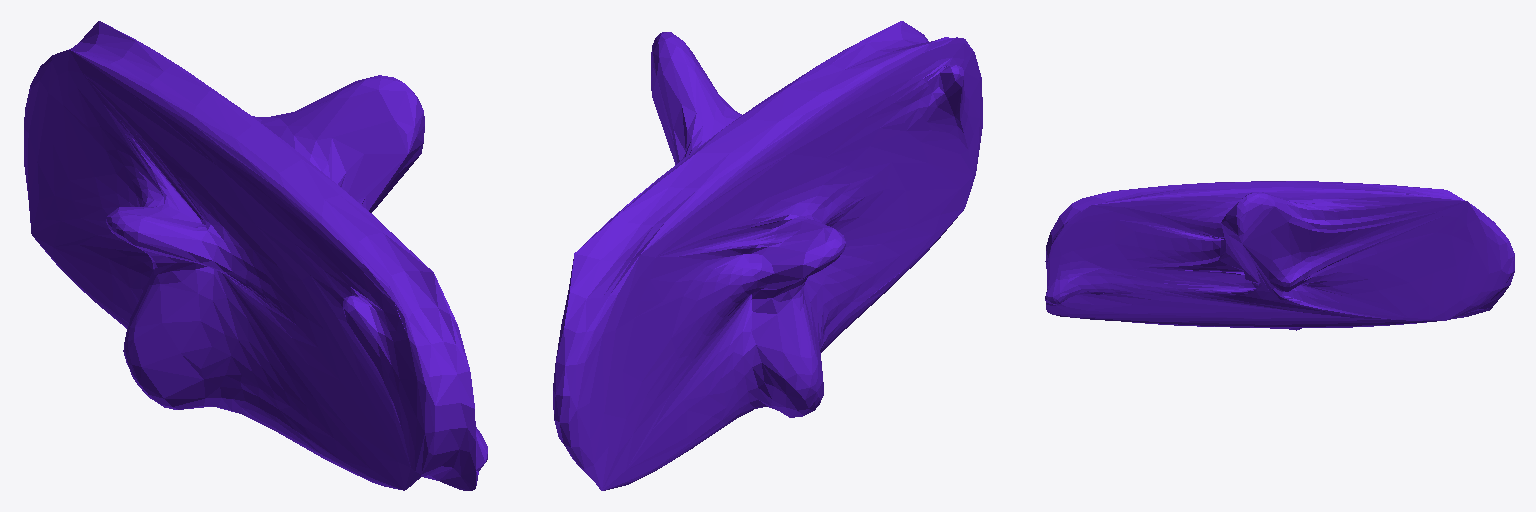
URDF robot description (blob069):

<robot name="blob069">
  <link name="random_obj_069">
    <contact>
      <lateral_friction value="1.0"/>
      <rolling_friction value="0.0"/>
      <inertia_scaling value="3.0"/>
      <contact_cfm value="0.0"/>
      <contact_erp value="1.0"/>
    </contact>
    <inertial>
      <origin rpy="0 0 0" xyz="0 0 0"/>
      <mass value="0.1778"/>
      <inertia ixx="1" ixy="0" ixz="0" iyy="1" iyz="0" izz="0"/>
    </inertial>
    <visual>
      <origin rpy="0 0 0" xyz="0 0 0"/>
      <geometry>
        <mesh filename="069.obj" scale="0.0066 0.0066 0.0066"/>
      </geometry>
      <material name="blockmat">
        <color rgba="0.42 0.18 0.83 1"/>
      </material>
    </visual>
    <collision>
      <origin rpy="0 0 0" xyz="0 0 0"/>
      <geometry>
        <mesh filename="069_coll.obj" scale="0.0066 0.0066 0.0066"/>
      </geometry>
    </collision>
  </link>
</robot>

--- Facts derived from the render (not from the file) ---
The picture shows the robot from 3 angles, left to right: view 1: azimuth 30°, elevation 25°; view 2: azimuth 150°, elevation 25°; view 3: azimuth 270°, elevation 25°; orthographic projection.
Robot: blob069 — 1 links, 0 joints (none); root link random_obj_069; default pose: every joint at zero.
Links seen in each view (by area): view 1: random_obj_069; view 2: random_obj_069; view 3: random_obj_069.
Boxes of the visible links, bbox=[...] form: random_obj_069: bbox=[24, 21, 487, 490]; random_obj_069: bbox=[553, 21, 982, 490]; random_obj_069: bbox=[1045, 181, 1514, 330].
Bounding box of the posed robot: 0.026 × 0.075 × 0.0316 m (x, y, z).
1 mesh visuals loaded from 1 distinct referenced files (1 OBJ).
